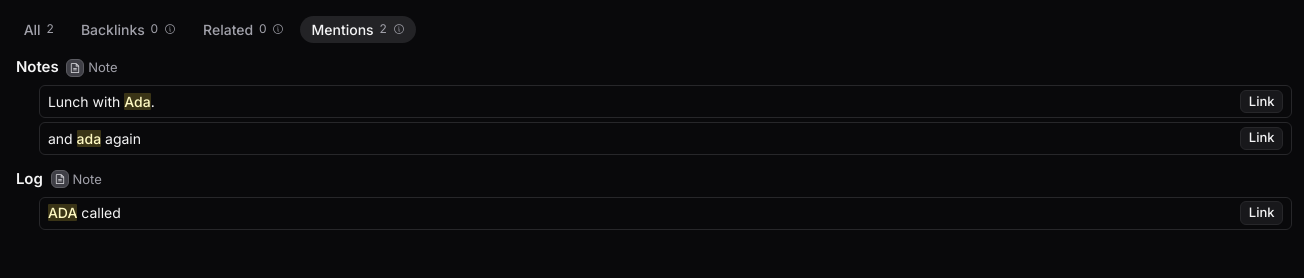
Test: MentionsTab › 409 on link reloads without retry
Check: the text "Notes" is shown, box [16, 56, 59, 79]
Click the 3rd button "Link" at [1262, 213], box [1240, 201, 1283, 225]
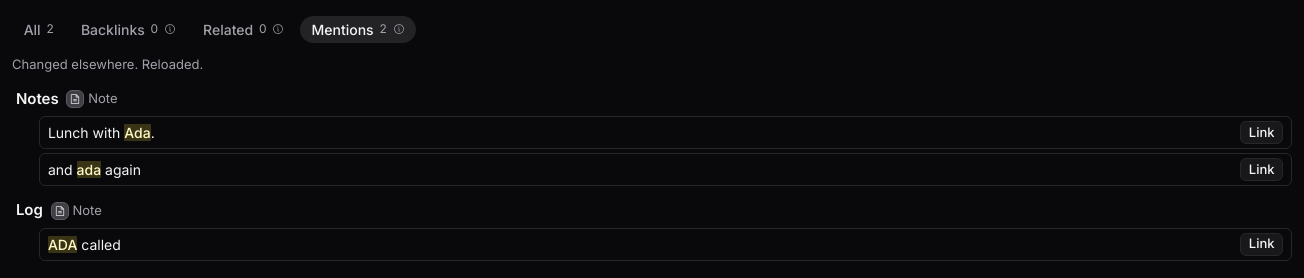
Check: the message reads "Changed elsewhere. Reloaded.", box [12, 56, 203, 72]
